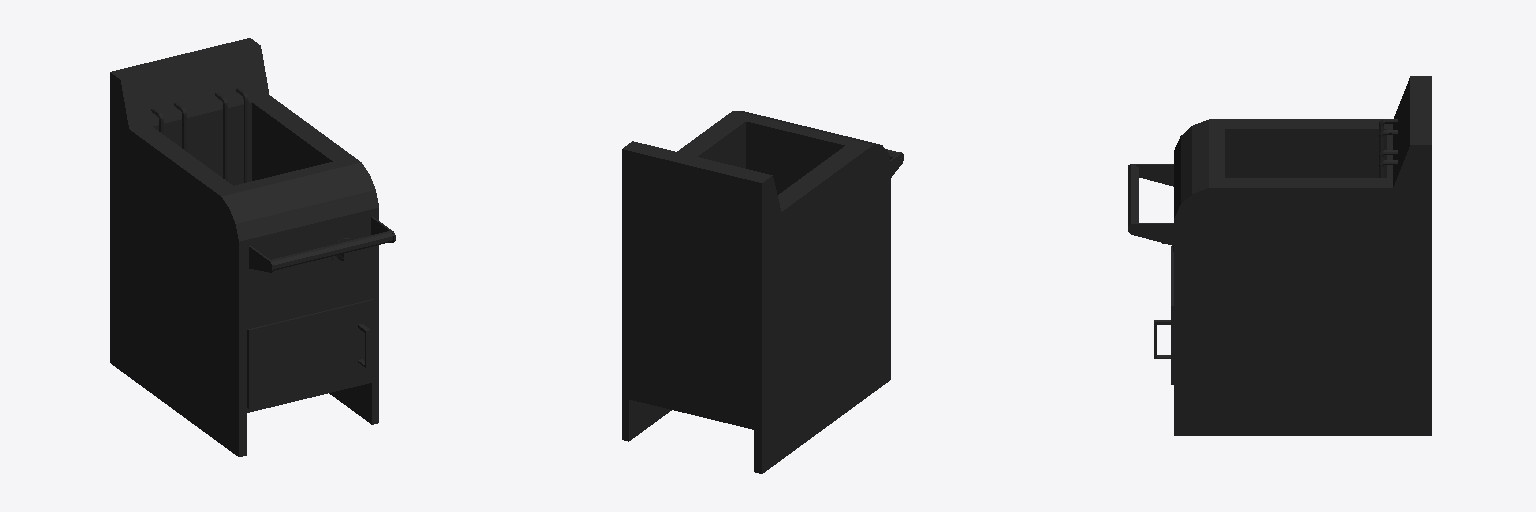
The model's file is DeepFryer_Galley.obj.
The picture shows the model from 3 angles: view 1: azimuth 30°, elevation 25°; view 2: azimuth 150°, elevation 25°; view 3: azimuth 270°, elevation 25°; orthographic projection.
Parts seen in each view (by area): view 1: DeepFryer_Galley.obj; view 2: DeepFryer_Galley.obj; view 3: DeepFryer_Galley.obj.
Part boxes in pixels (x1,y1,x2,y2): DeepFryer_Galley.obj: (110, 38, 395, 456); DeepFryer_Galley.obj: (622, 111, 903, 473); DeepFryer_Galley.obj: (1128, 76, 1431, 435).
Bounding box in the file's own units: 3.56 × 7.04 × 6.67.